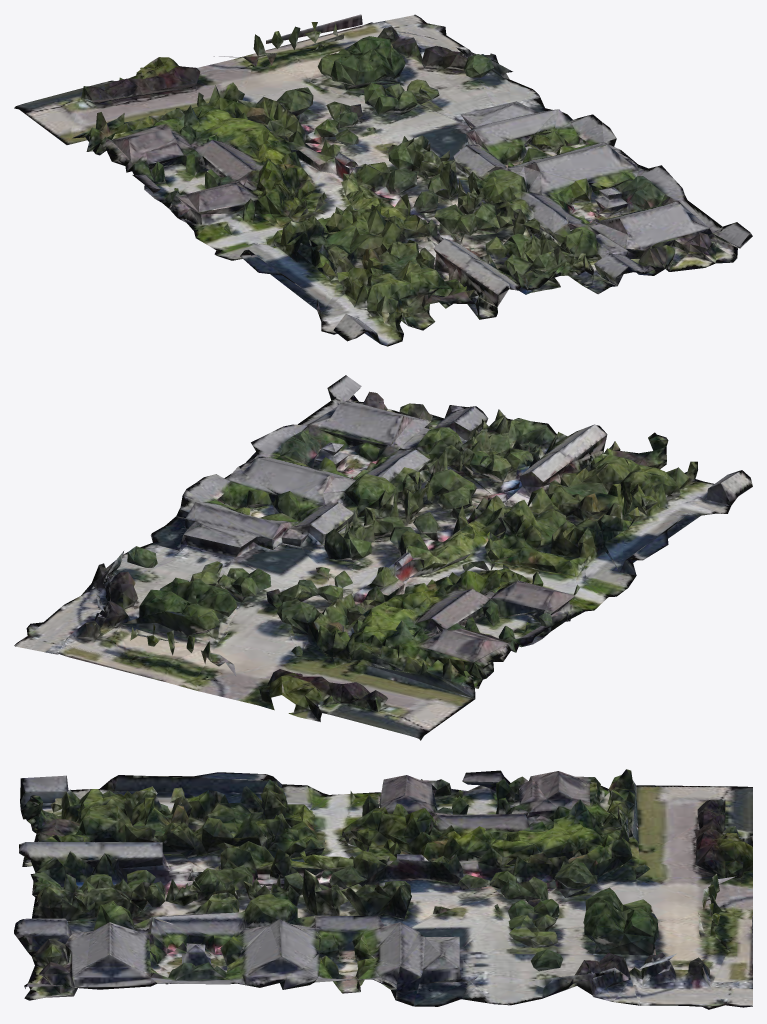
3 views of the same model, one above another, from view 1: azimuth 30°, elevation 25°; view 2: azimuth 150°, elevation 25°; view 3: azimuth 270°, elevation 25° (orthographic). The views are drawn at different scales.
Bounding box in the file's own units: 150 × 15.62 × 215.
1 material, 1 textured.
